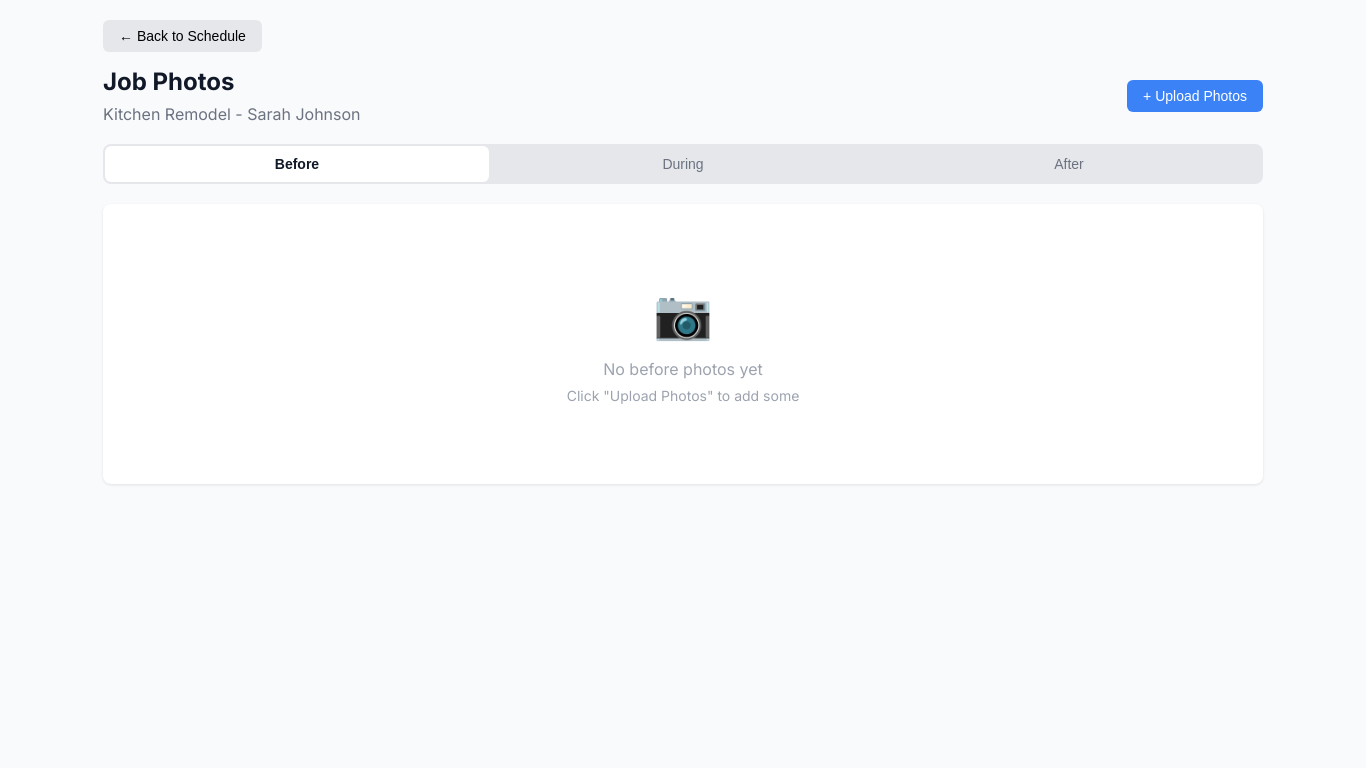
Test: Job Photos › opens upload modal when upload button clicked
The width and height of the screenshot is (1366, 768).
What coordinates should you click on to do the following:
click the button "+ Upload Photos"
I would click on:
 (1195, 96)
Its box is [1127,80,1263,112].
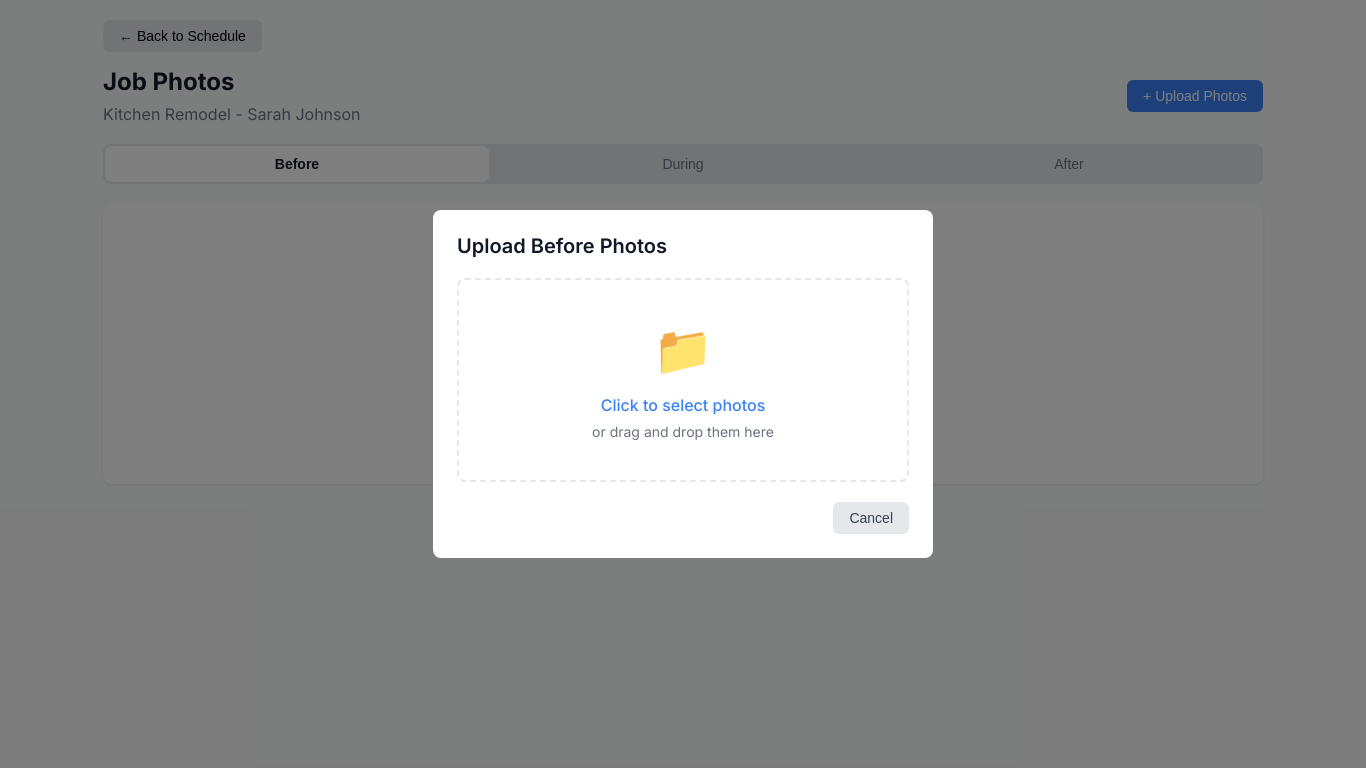
Check: the heading "Upload Before Photos" is shown, box [457,234,667,258]
